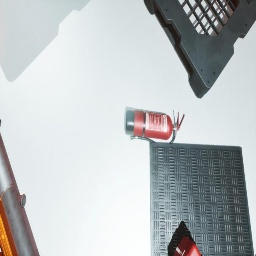FireExtinguisher ]: (125, 108, 185, 143)
FirstAidBox ,: (173, 236, 202, 256)
